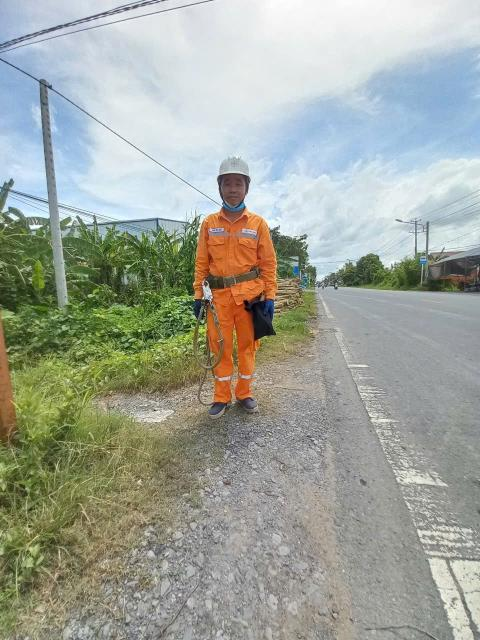gloves: (262, 294, 288, 335), (181, 296, 218, 322)
harness: (198, 264, 272, 290)
helmet: (210, 148, 260, 184)
shoes: (237, 383, 271, 422), (202, 393, 238, 420)
